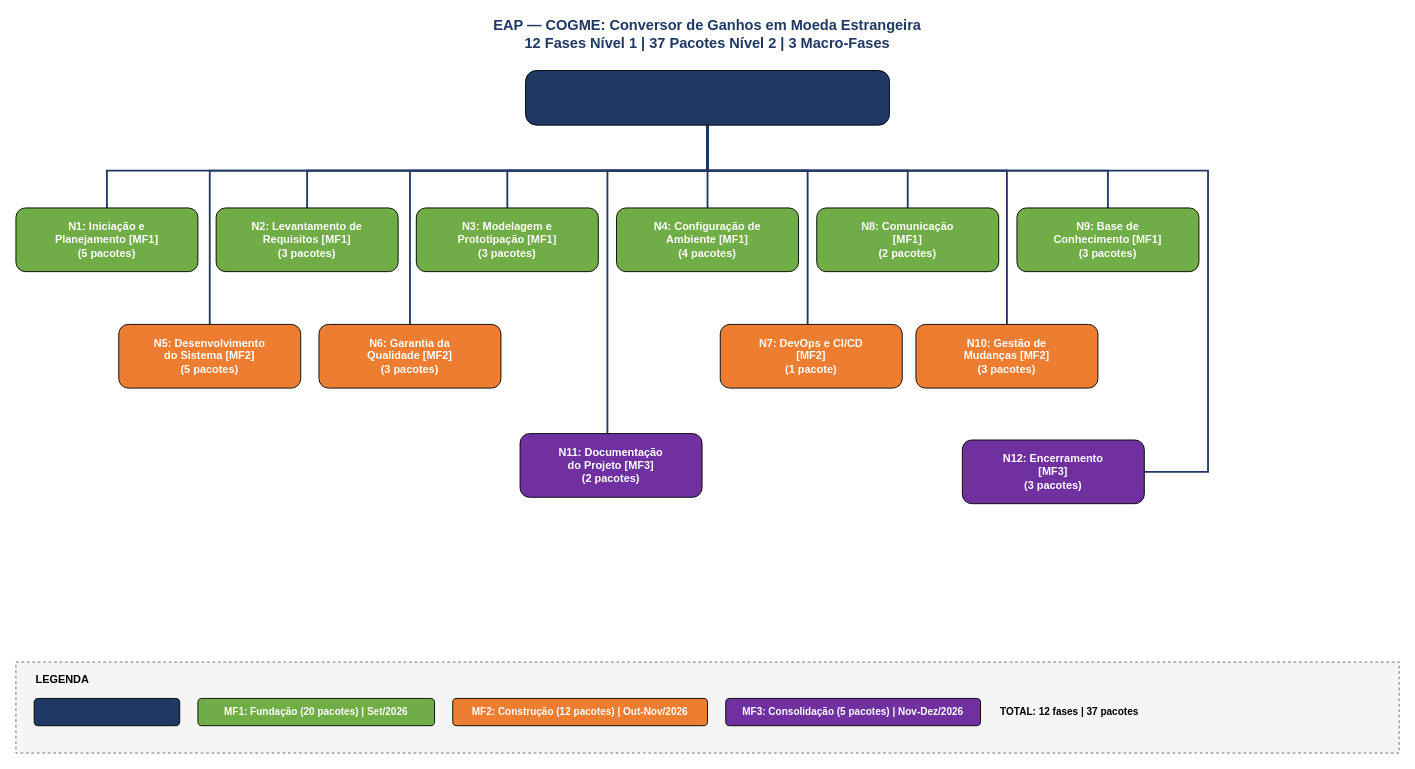
The diagram is 1415 pixels wide and 769 high, and some of its shapes have lost their labels. Here are the shapes that lost their labels. From the top down, the centre of each, then its label:
At point (707, 97): "N0: COGME Conversor de Ganhos em Moeda Estrangeira".
At point (106, 712): "N0: Raiz do Projeto".
